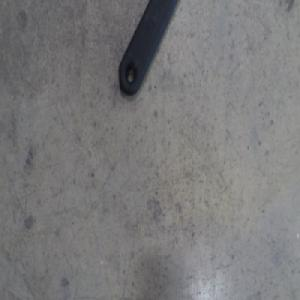AdjustableWrench: (118, 0, 178, 95)
